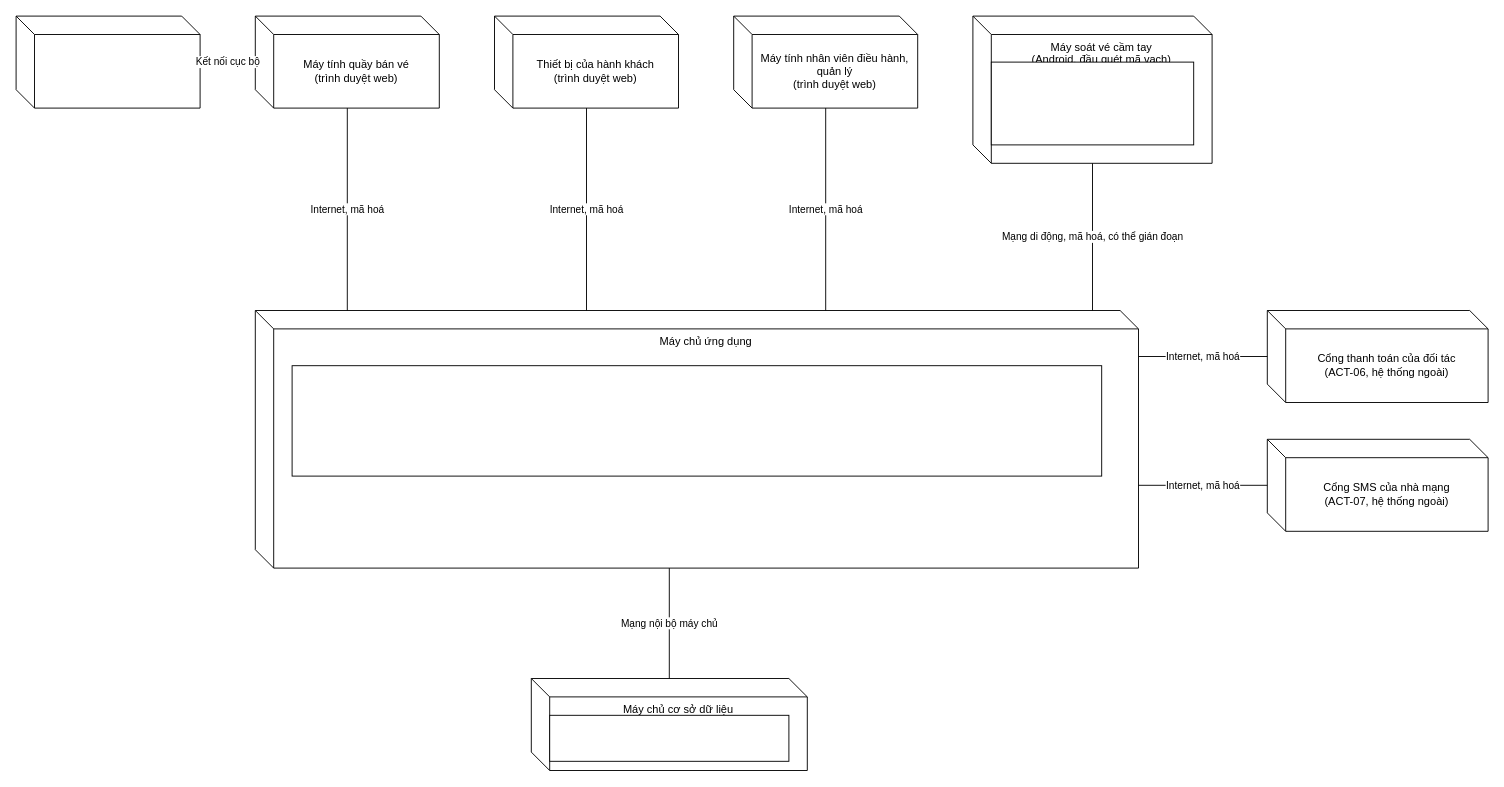
Image size: 1504x787. Some labels were removed from this diagram. The shapes that lost their labels are listed below. From the top down, each one's centre as x and y in pixels, then its label:
point (107, 61): Máy in vé nhiệt (ACT-08)
point (1092, 103): «artifact» Ứng dụng soát vé PKG-10, PKG-18 (phần máy soát vé), PKG-25, PKG-26
point (696, 420): «artifact» Ứng dụng web PKG-05 đến PKG-09, PKG-11 đến PKG-24, PKG-27 đến PKG-30
point (669, 737): «artifact» Cơ sở dữ liệu quan hệ
